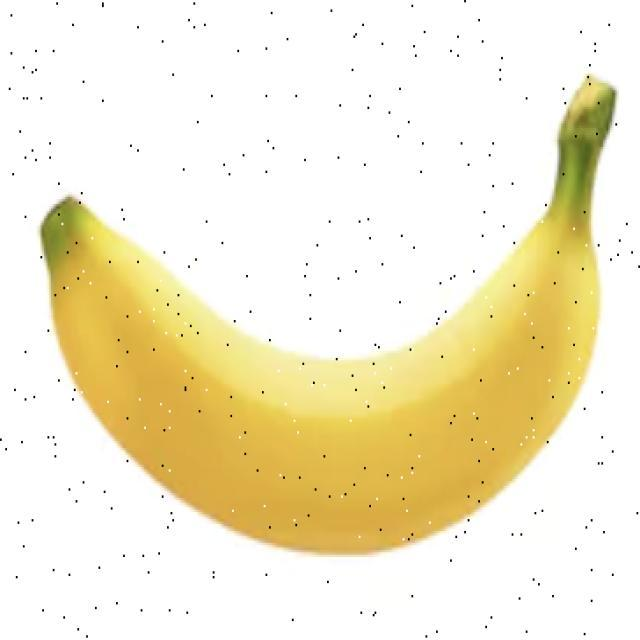Banana: (39, 73, 617, 555)
